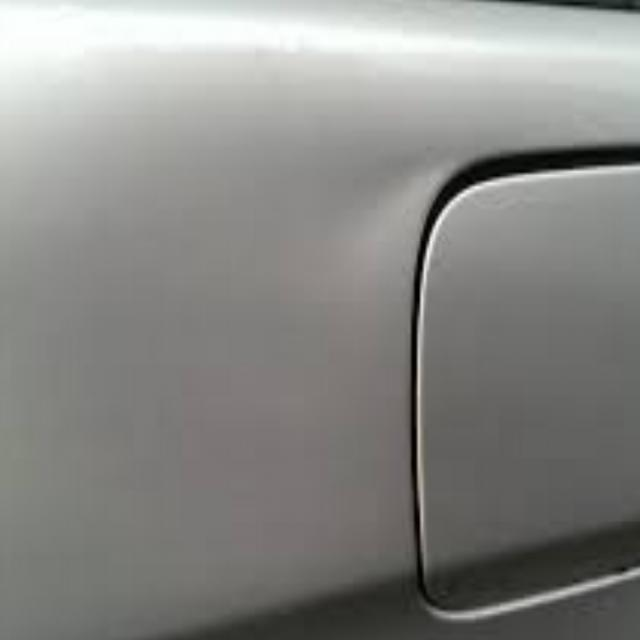dents: (352, 124, 487, 250)
